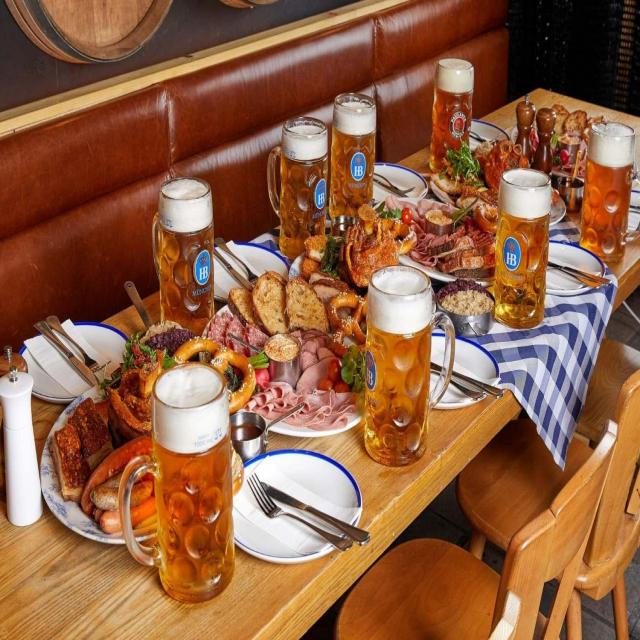glass-mug: (119, 361, 236, 606), (360, 263, 457, 467), (152, 174, 216, 338), (492, 167, 554, 330), (266, 114, 330, 255), (578, 120, 640, 264), (330, 90, 377, 219), (428, 57, 476, 173)
